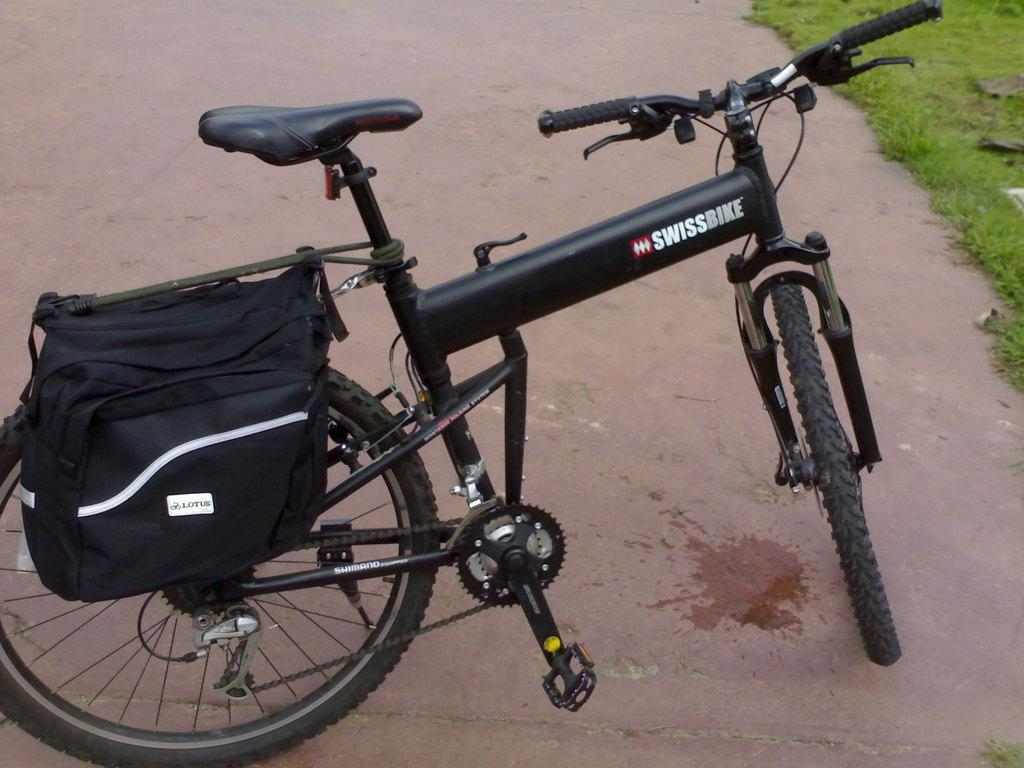Luggage-and-bags: (35, 284, 419, 720)
